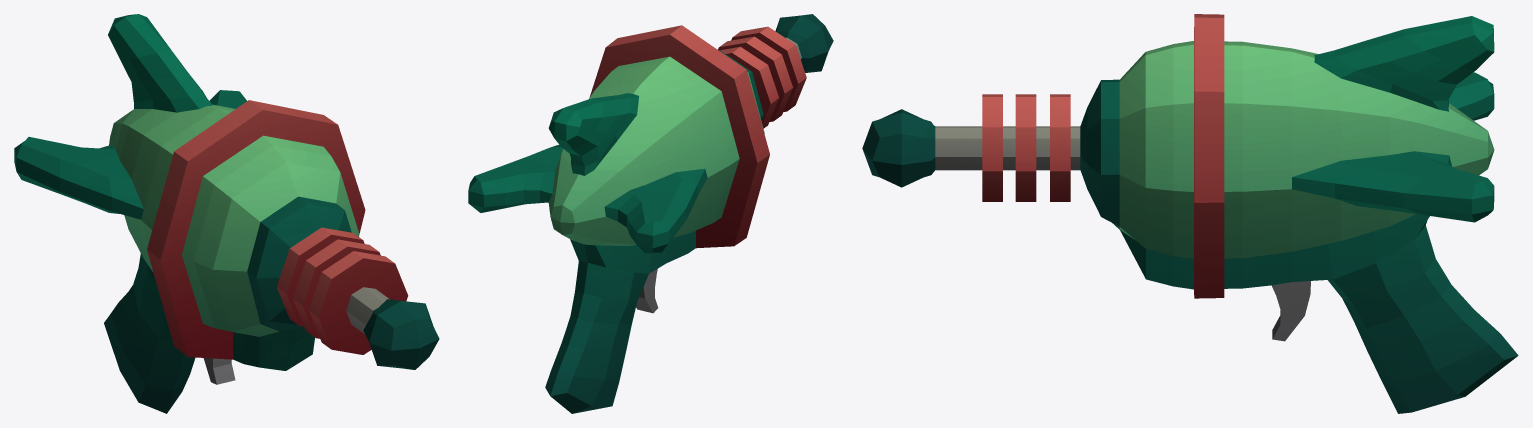
The model's file is fbx-gun-space-gun.fbx.
3 renders of one model, left to right at view 1: azimuth 30°, elevation 25°; view 2: azimuth 150°, elevation 25°; view 3: azimuth 270°, elevation 25°, orthographic. The views are drawn at different scales.
Visible parts, largest first — view 1: mesh-gun-space-gun; view 2: mesh-gun-space-gun; view 3: mesh-gun-space-gun.
Part boxes in pixels (x1,y1,x2,y2): mesh-gun-space-gun: (14, 14, 439, 413); mesh-gun-space-gun: (468, 14, 833, 413); mesh-gun-space-gun: (862, 14, 1518, 413).
Bounding box in the file's own units: 0.5563 × 0.8623 × 1.29.
